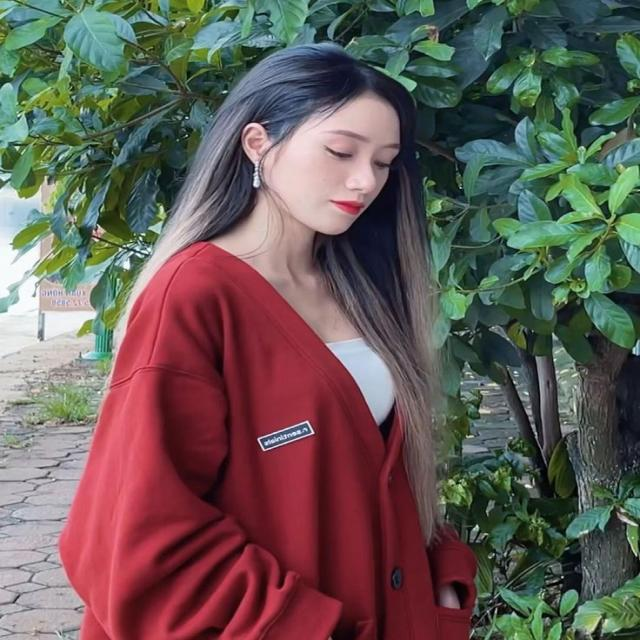clothes: (56, 235, 474, 640)
